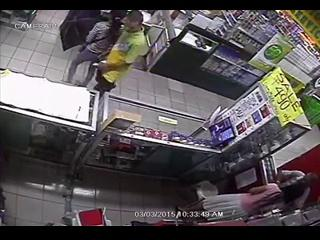Normal: (94, 10, 152, 96), (66, 10, 126, 88)
